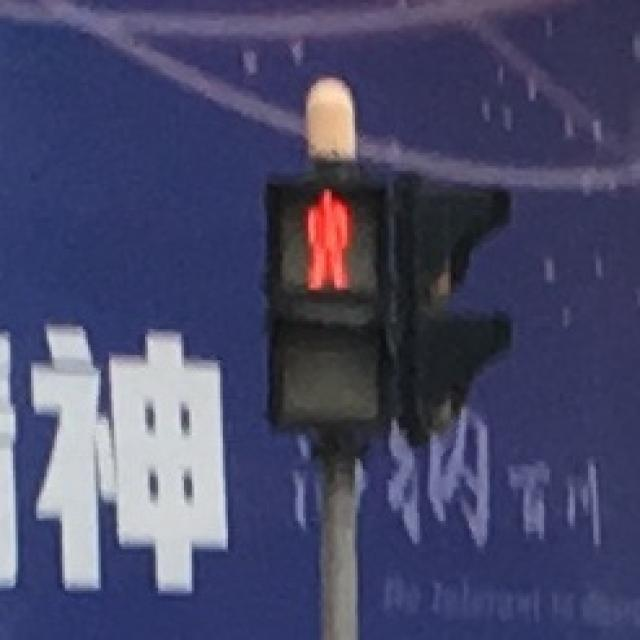red-crossing: (269, 179, 381, 298)
